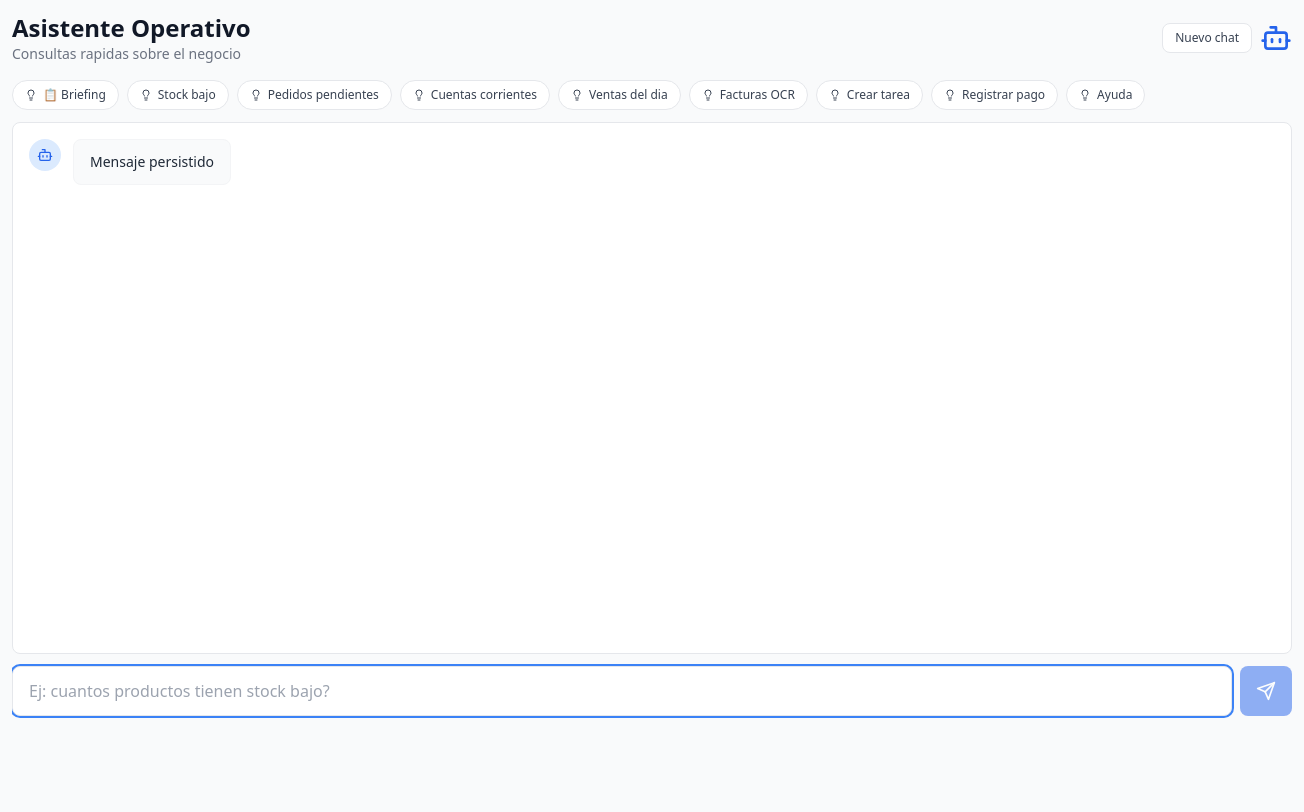
Test: Asistente › loads stored chat and resets it with "Nuevo chat"
The width and height of the screenshot is (1304, 812).
Expected: the text "Mensaje persistido" is shown, [90,152,214,172]
Click the button "Nuevo chat": (1207, 38) [1162,23,1252,53]
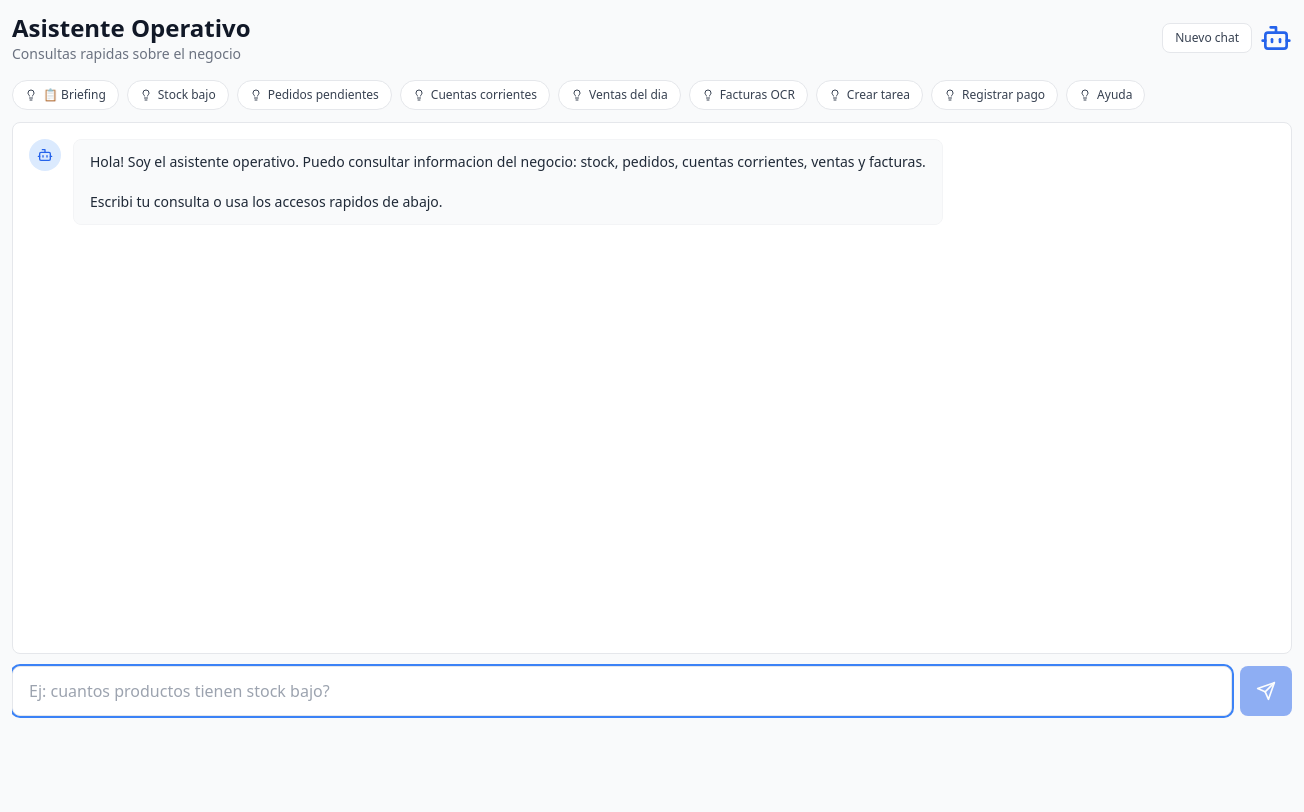
Expected: the text "Hola! Soy el asistente operativo" is shown, [90,152,926,211]
